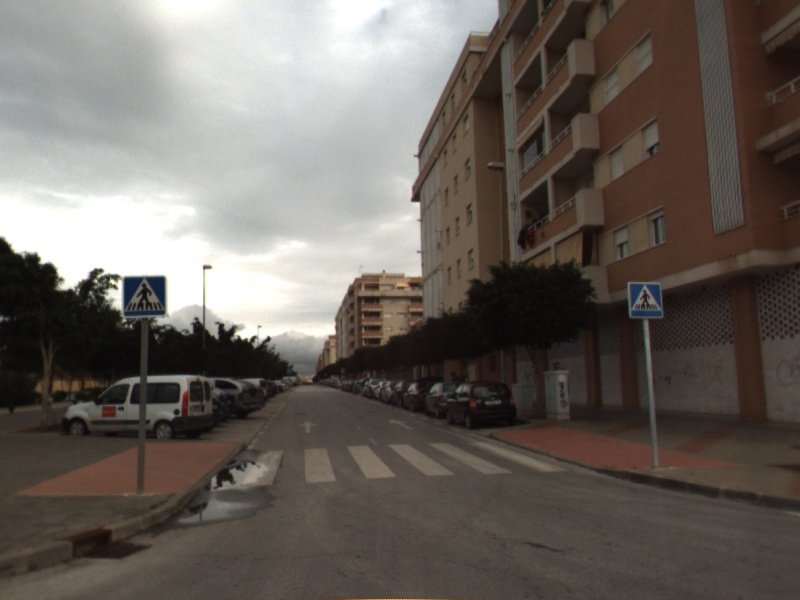STRAIGHT: (386, 416, 416, 432), (296, 419, 319, 435)
